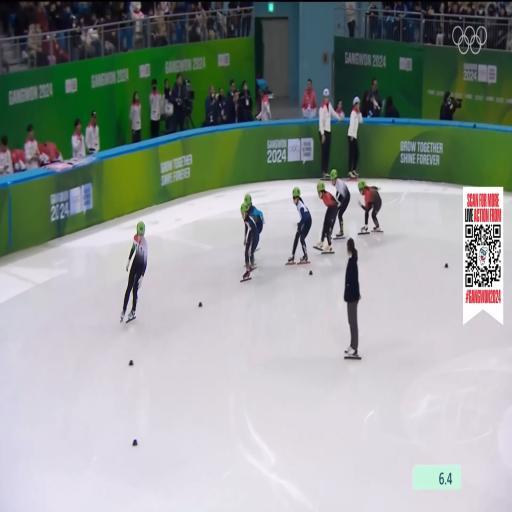Skater: (121, 222, 147, 321), (287, 187, 311, 264), (315, 183, 338, 252), (241, 203, 259, 280), (331, 170, 350, 238), (359, 180, 381, 234), (244, 194, 264, 234)
